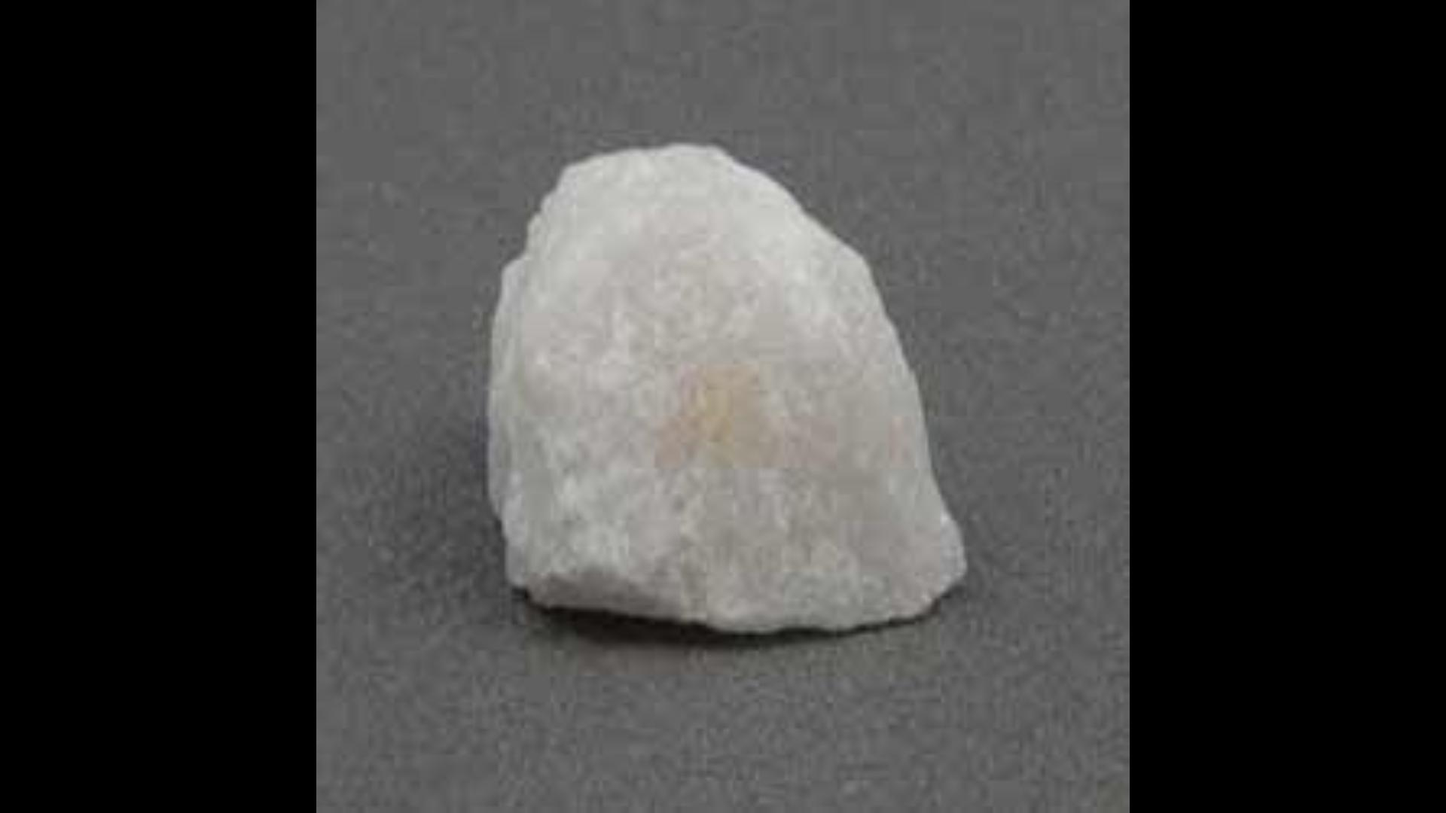rock: (489, 146, 961, 628)
